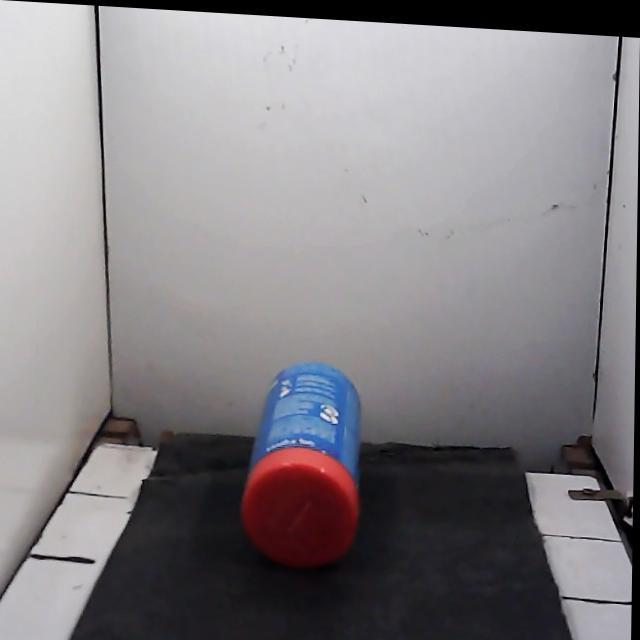plastico: (241, 362, 359, 567)
